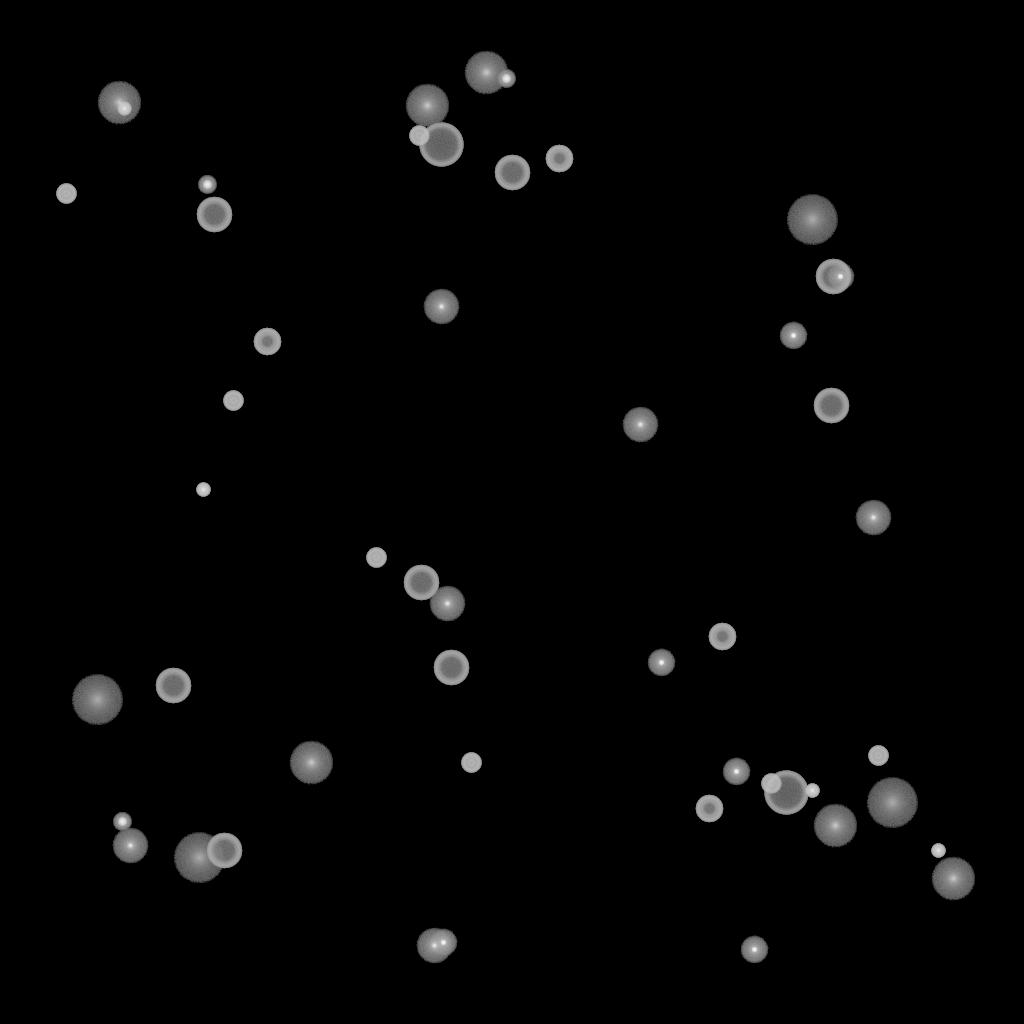depth:-10: (647, 649, 675, 677), (740, 936, 768, 964), (429, 929, 457, 957), (826, 263, 854, 291), (779, 322, 807, 350), (722, 758, 750, 786)
depth:-20: (497, 70, 515, 88), (113, 813, 131, 831), (198, 176, 216, 194)
depth:-30: (196, 483, 210, 497), (117, 102, 131, 116), (805, 784, 819, 798), (931, 844, 945, 858)
depth:-40: (56, 184, 76, 204), (461, 753, 481, 773), (366, 548, 386, 568), (868, 746, 888, 766), (223, 391, 243, 411), (761, 774, 781, 794), (409, 126, 429, 146)
depth:-50: (545, 145, 573, 173), (708, 623, 736, 651), (253, 328, 281, 356), (695, 795, 723, 823)
depth:-60: (813, 388, 849, 424), (433, 650, 469, 686), (196, 197, 232, 233), (494, 155, 530, 191), (206, 833, 242, 869), (815, 259, 851, 295), (403, 565, 439, 601), (155, 668, 191, 704)
depth:-70: (764, 771, 808, 815), (419, 123, 463, 167)
depth:0: (429, 586, 465, 622), (416, 928, 452, 964), (423, 289, 459, 325), (112, 828, 148, 864), (622, 407, 658, 443), (855, 500, 891, 536)
depth:10: (464, 51, 508, 95), (931, 857, 975, 901), (405, 84, 449, 128), (97, 81, 141, 125), (289, 741, 333, 785), (813, 804, 857, 848)
depth:20: (173, 833, 225, 883), (866, 778, 918, 828), (786, 195, 838, 245), (71, 675, 123, 725)
